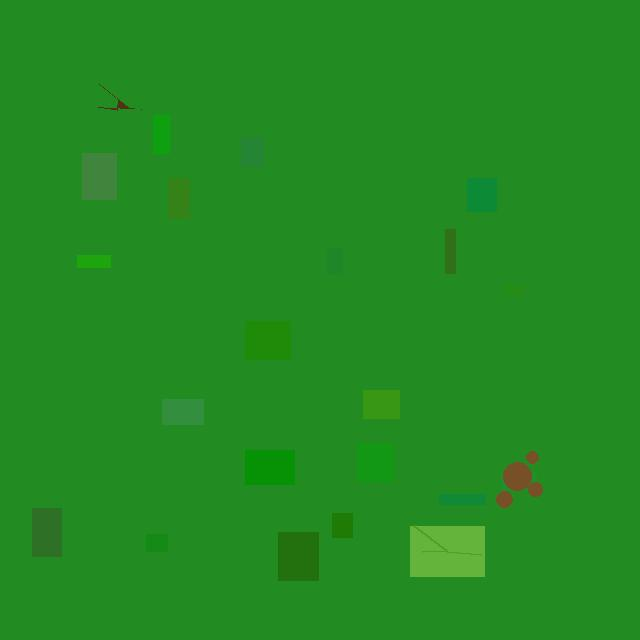disease: (90, 78, 142, 123)
pest_damage: (493, 442, 544, 523)
weed: (410, 526, 484, 576)
